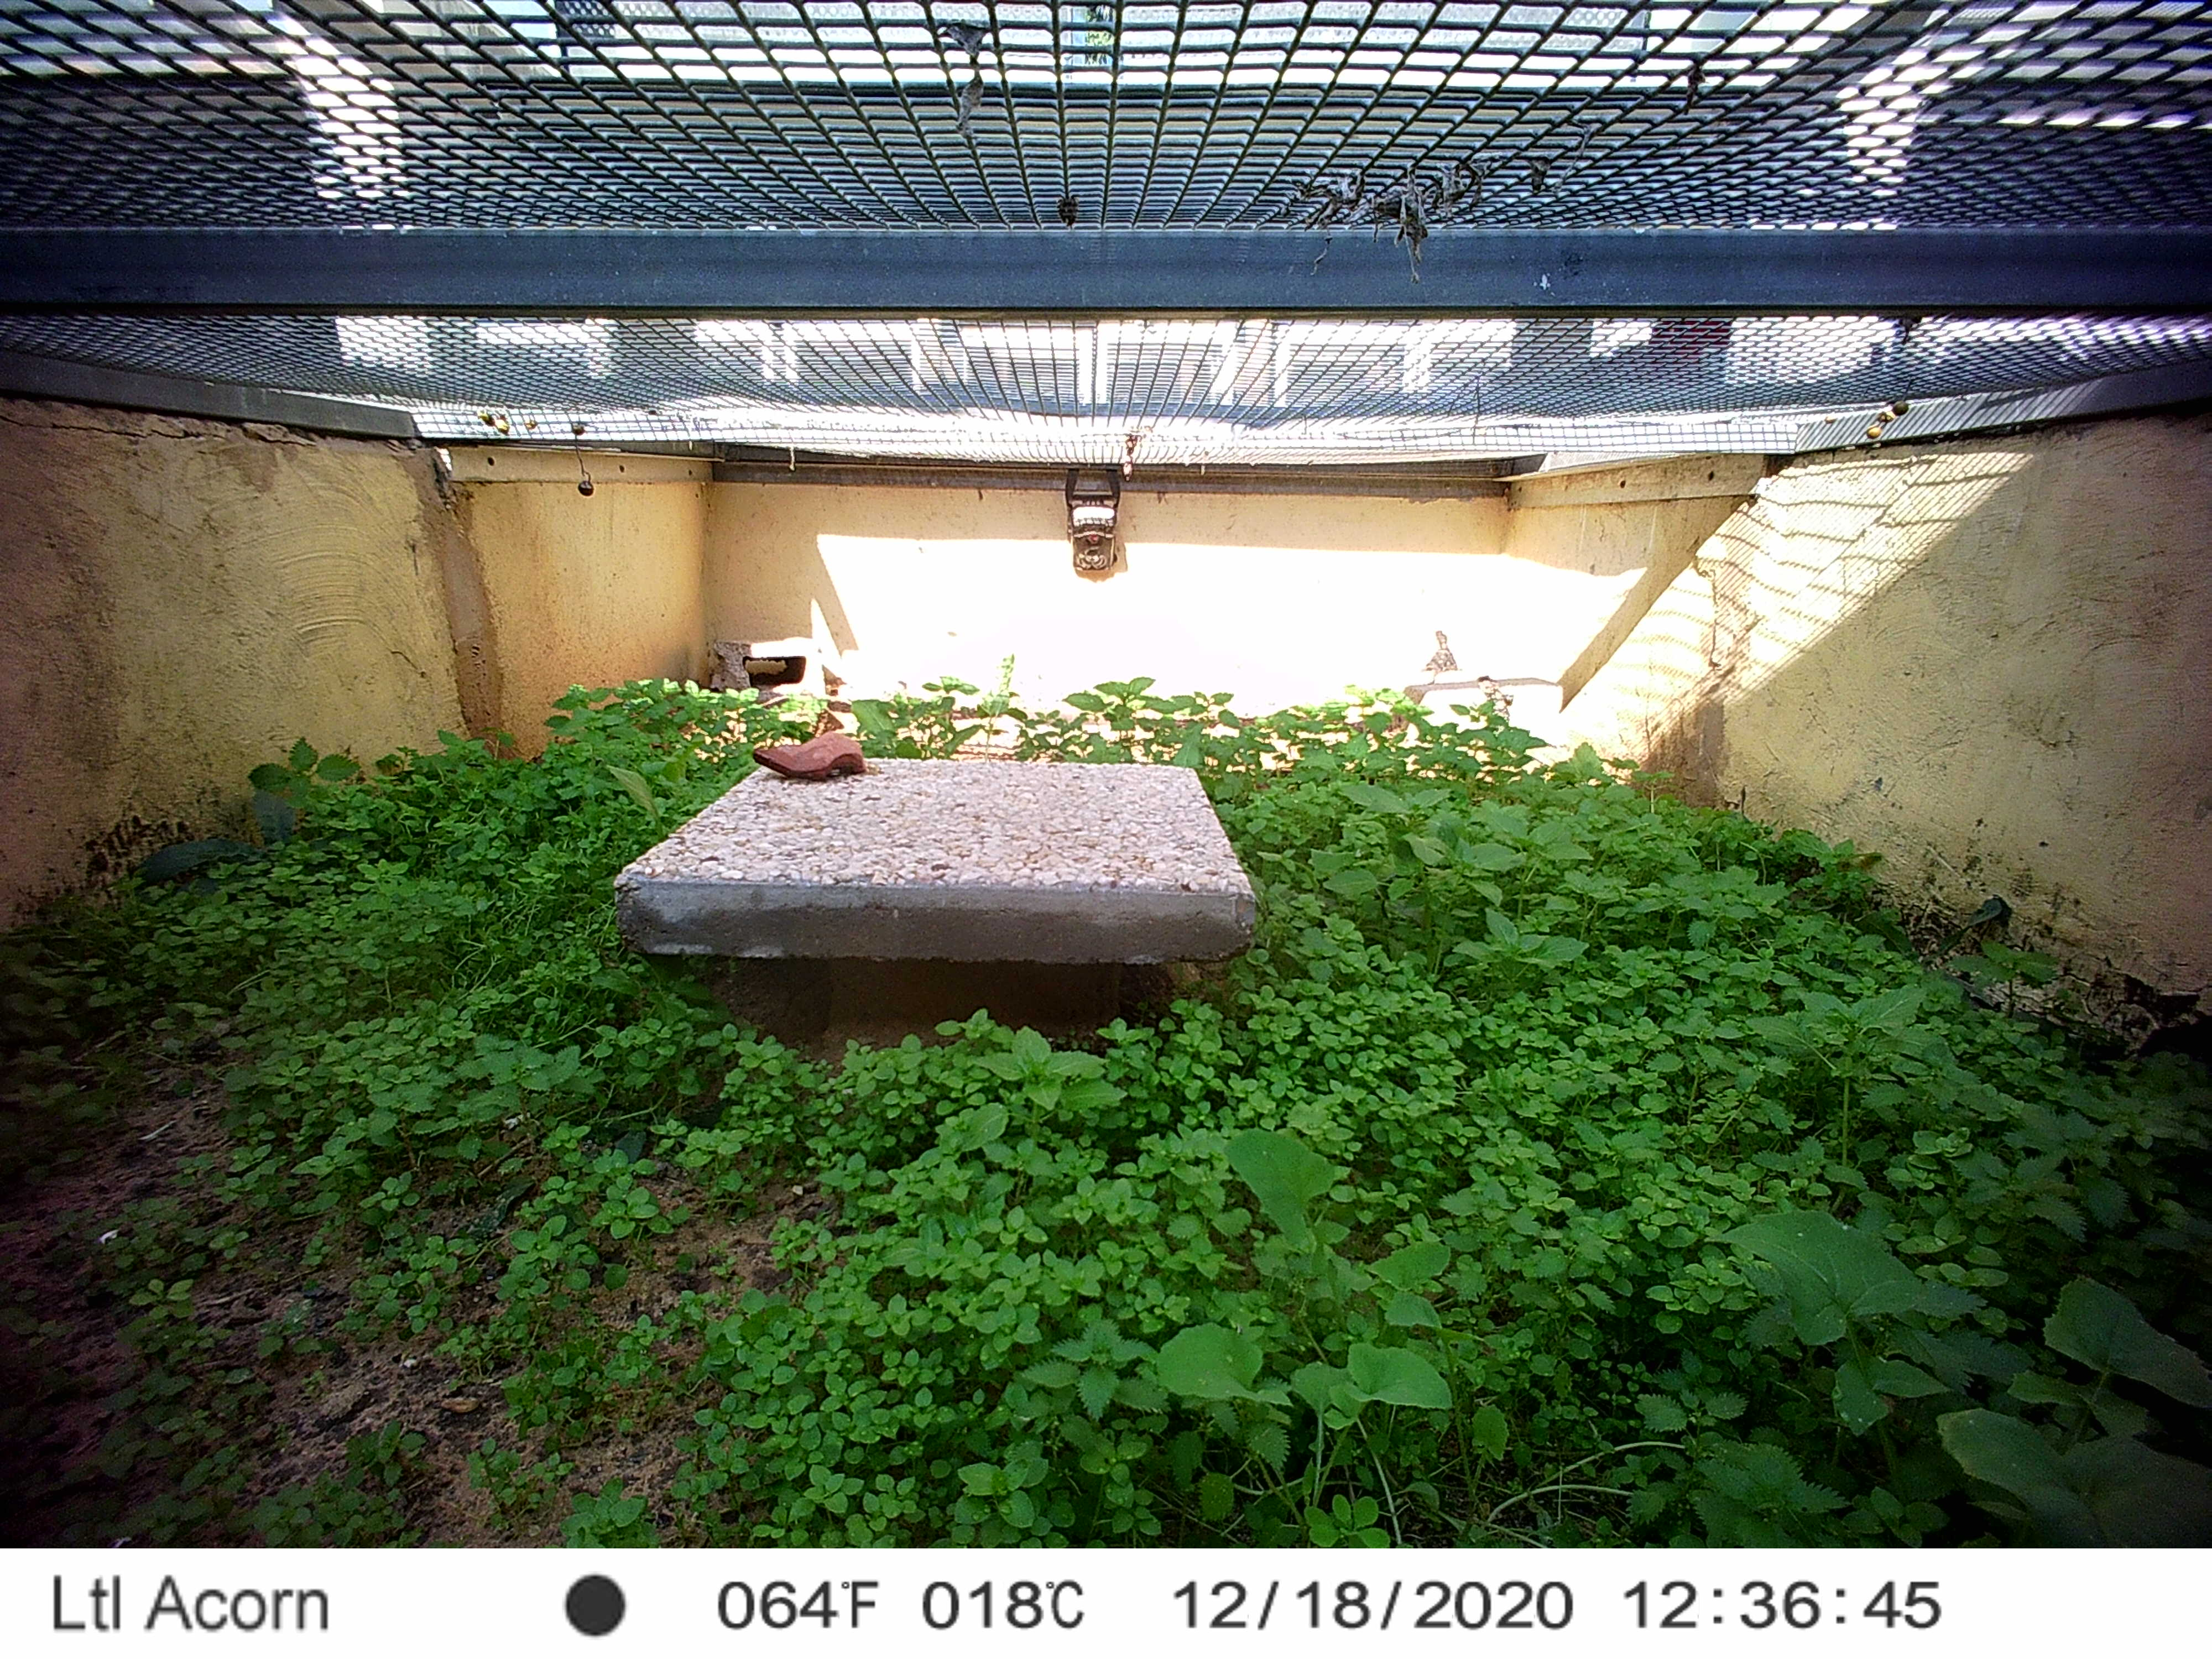lizard: (1472, 674, 1524, 739), (1423, 624, 1460, 694)
